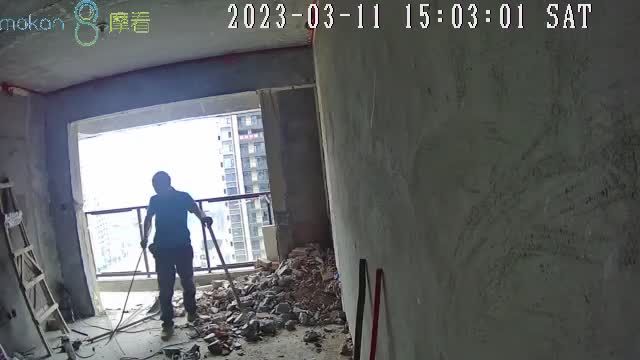people: (142, 170, 213, 341)
window: (73, 110, 275, 276)
